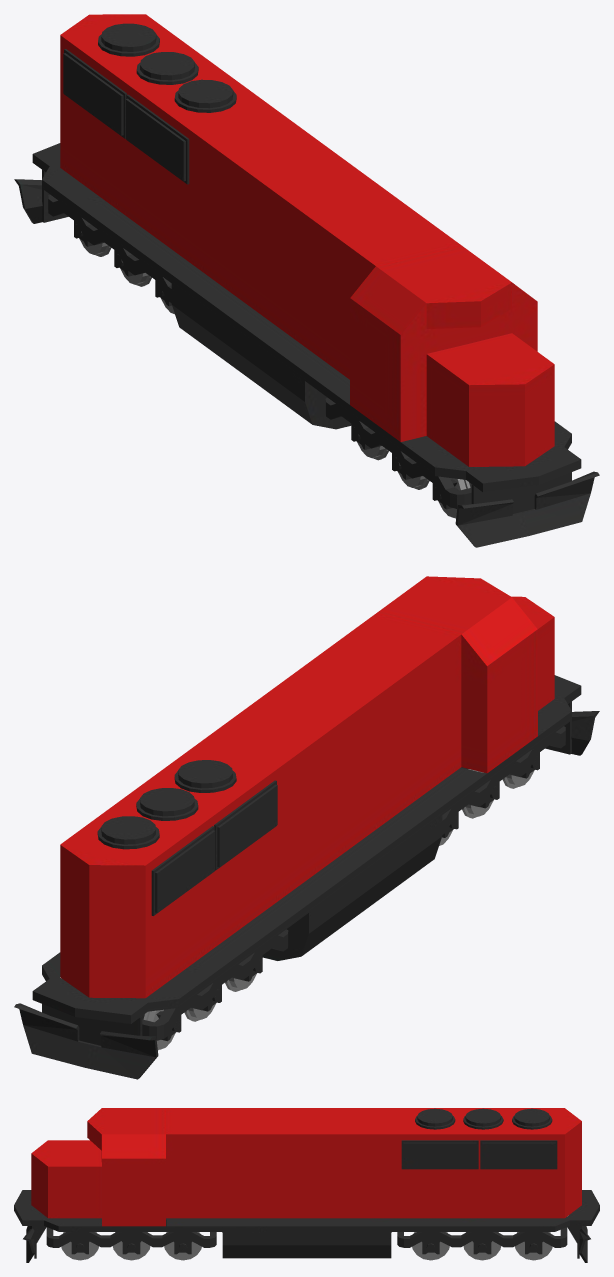
The model's file is Locomotive_USA.glb.
3 renders of one model, top to bottom at view 1: azimuth 30°, elevation 25°; view 2: azimuth 150°, elevation 25°; view 3: azimuth 270°, elevation 25°, orthographic. The views are drawn at different scales.
Parts seen in each view (by area): view 1: Locomotive_USA_Hull, Locomotive_USA_Bogie_1, Locomotive_USA_Bogie_2; view 2: Locomotive_USA_Hull, Locomotive_USA_Bogie_2, Locomotive_USA_Bogie_1; view 3: Locomotive_USA_Hull, Locomotive_USA_Bogie_1, Locomotive_USA_Bogie_2.
Boxes of the visible parts, left/top/right/bottom form: Locomotive_USA_Hull: left=14, top=14, right=599, bottom=547; Locomotive_USA_Bogie_1: left=325, top=397, right=471, bottom=518; Locomotive_USA_Bogie_2: left=48, top=194, right=174, bottom=314; Locomotive_USA_Hull: left=14, top=576, right=599, bottom=1079; Locomotive_USA_Bogie_2: left=62, top=929, right=288, bottom=1050; Locomotive_USA_Bogie_1: left=439, top=726, right=565, bottom=845; Locomotive_USA_Hull: left=14, top=1108, right=599, bottom=1262; Locomotive_USA_Bogie_1: left=46, top=1227, right=216, bottom=1260; Locomotive_USA_Bogie_2: left=397, top=1227, right=567, bottom=1260.
Size of the model in its own units: 0.2807 by 0.416 by 1.64.
Materials: 3 (3 with a texture image).
